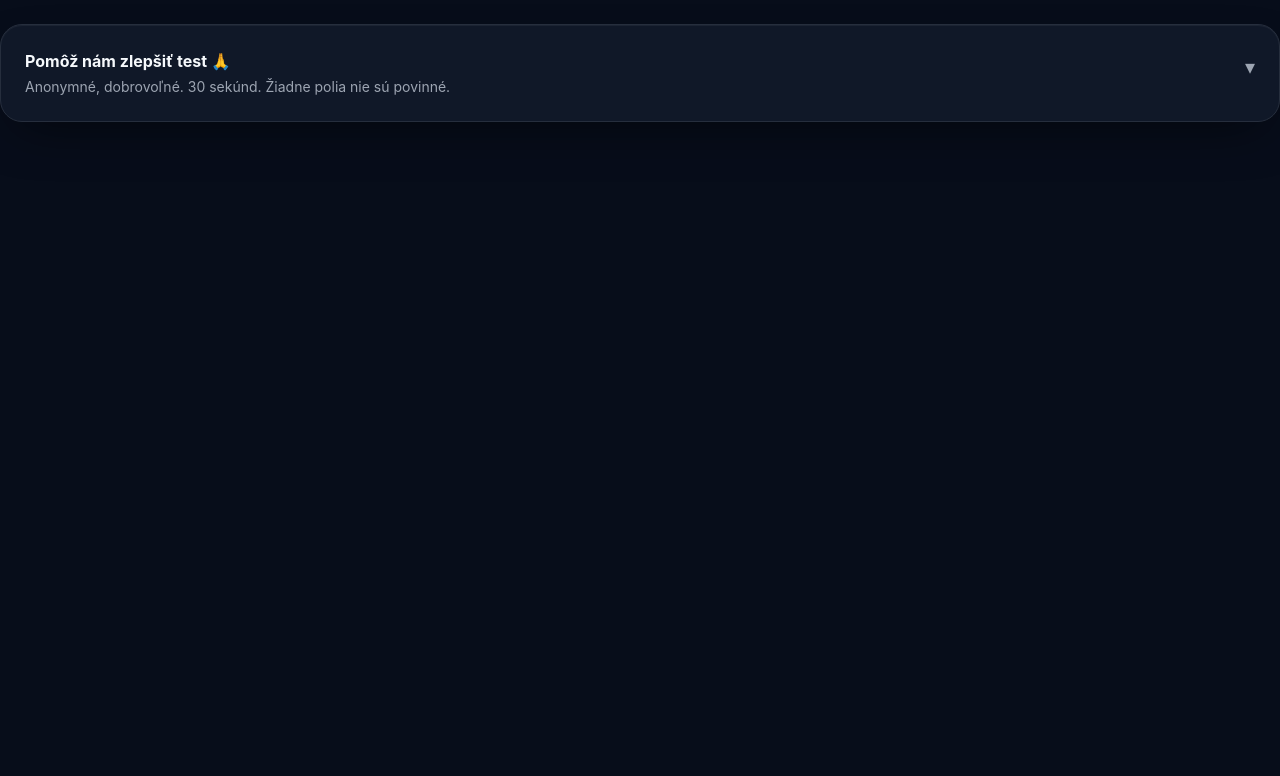
Test: SurveyCard — E2.3 growth questions › renders the 4 new survey sections after expand (single/single/single/yesno)
Step 1. Click the button "Pomôž nám zlepšiť test" → (128, 61), box [17, 41, 1263, 105]
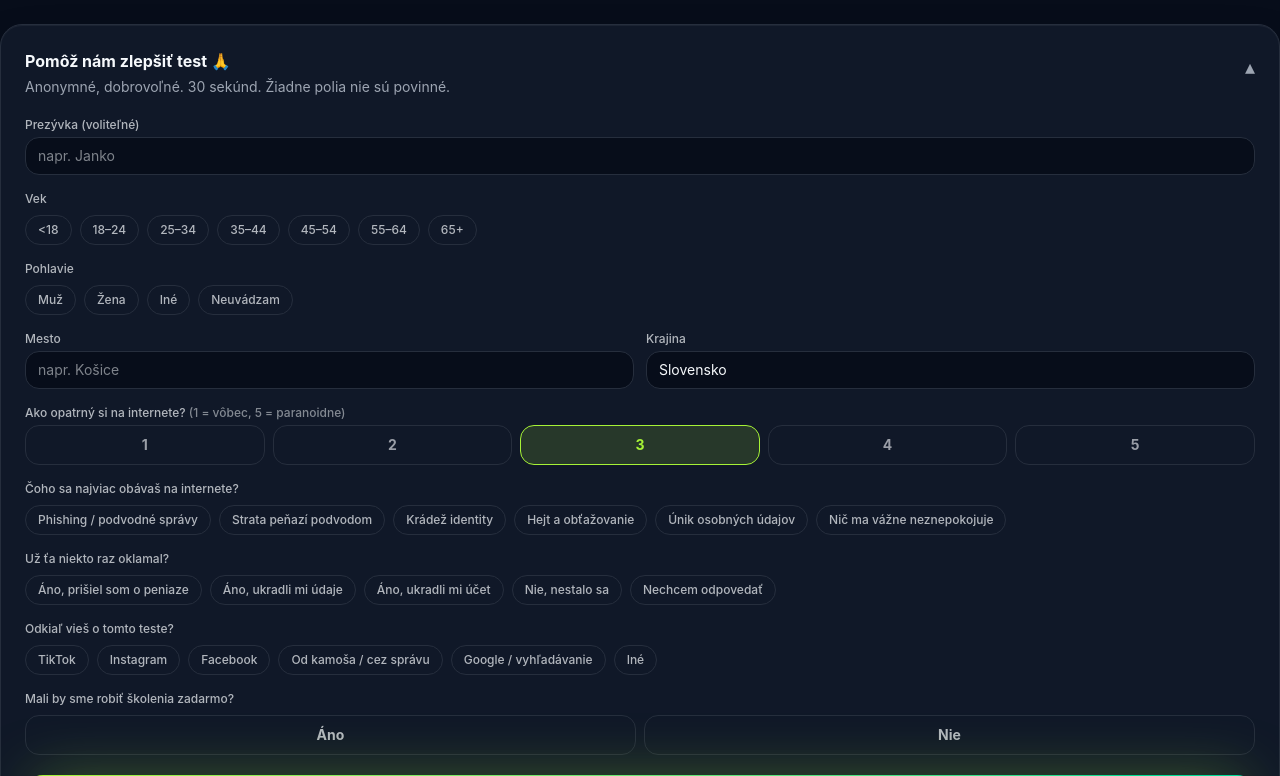
Now the text "Čoho sa najviac obávaš na internete?" is shown, box [25, 481, 239, 496]
Now the text "Už ťa niekto raz oklamal?" is shown, box [25, 551, 169, 566]
Now the text "Odkiaľ vieš o tomto teste?" is shown, box [25, 621, 174, 636]
